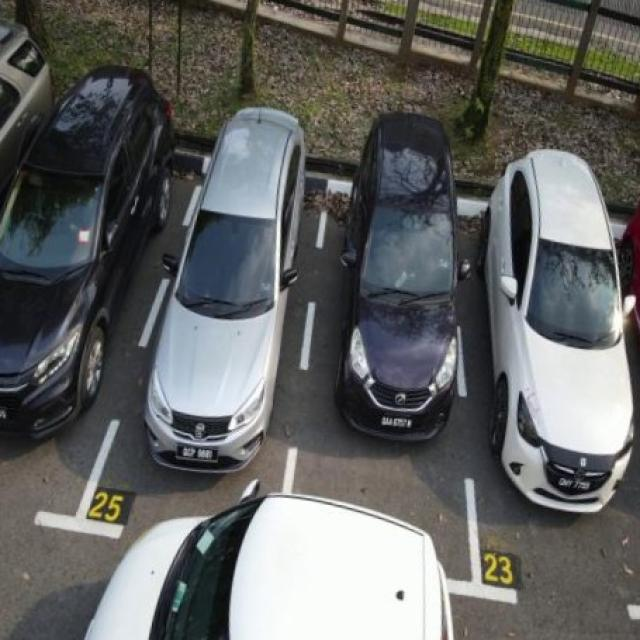Legalparking: (2, 2, 640, 518)
illegalparking: (61, 457, 483, 640)
